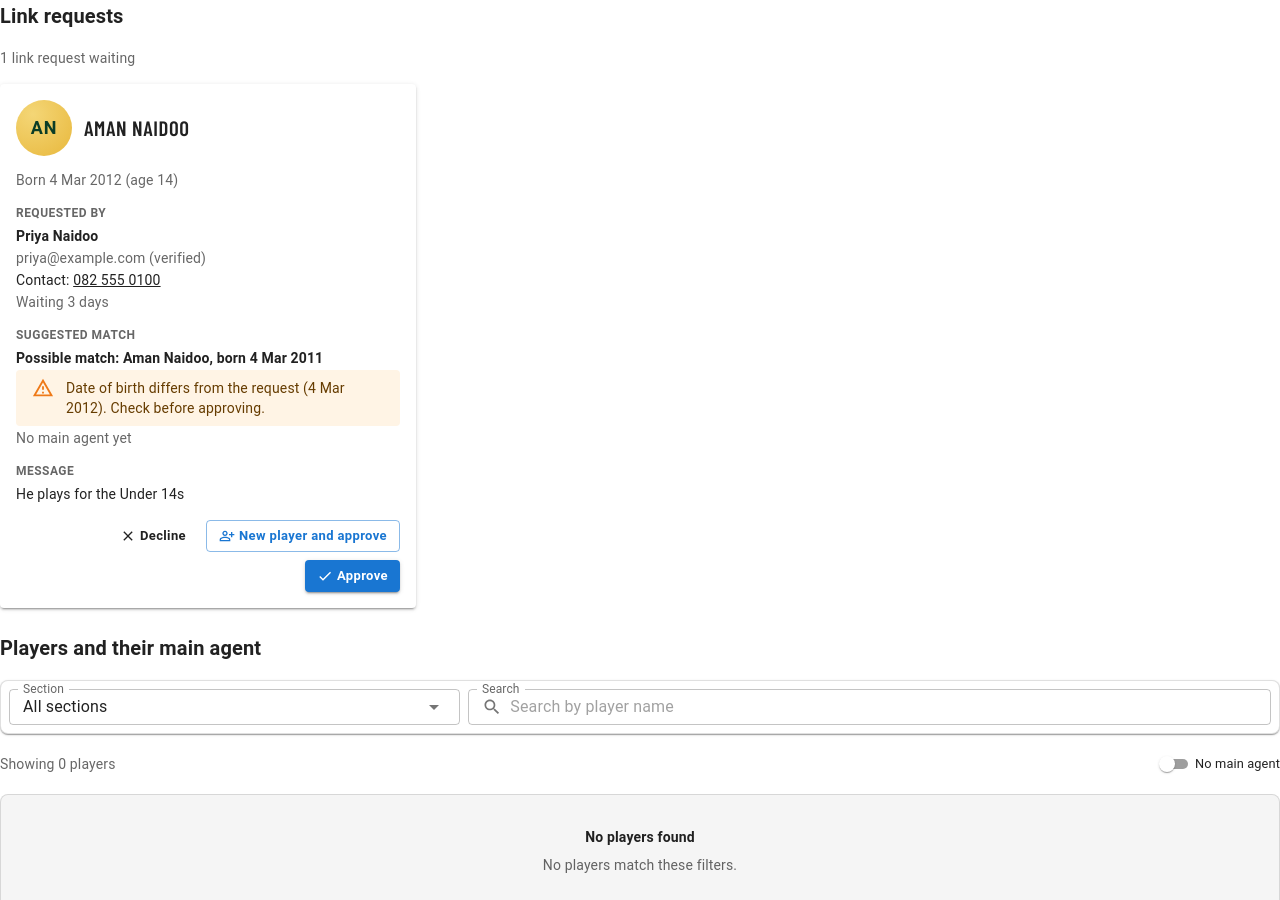
PlayerAccountsTab › approve › repeats the date of birth warning on the confirm step for a name-only match
The image size is (1280, 900).
Click the button "Approve".
click(352, 576)  # box [305,560,400,592]
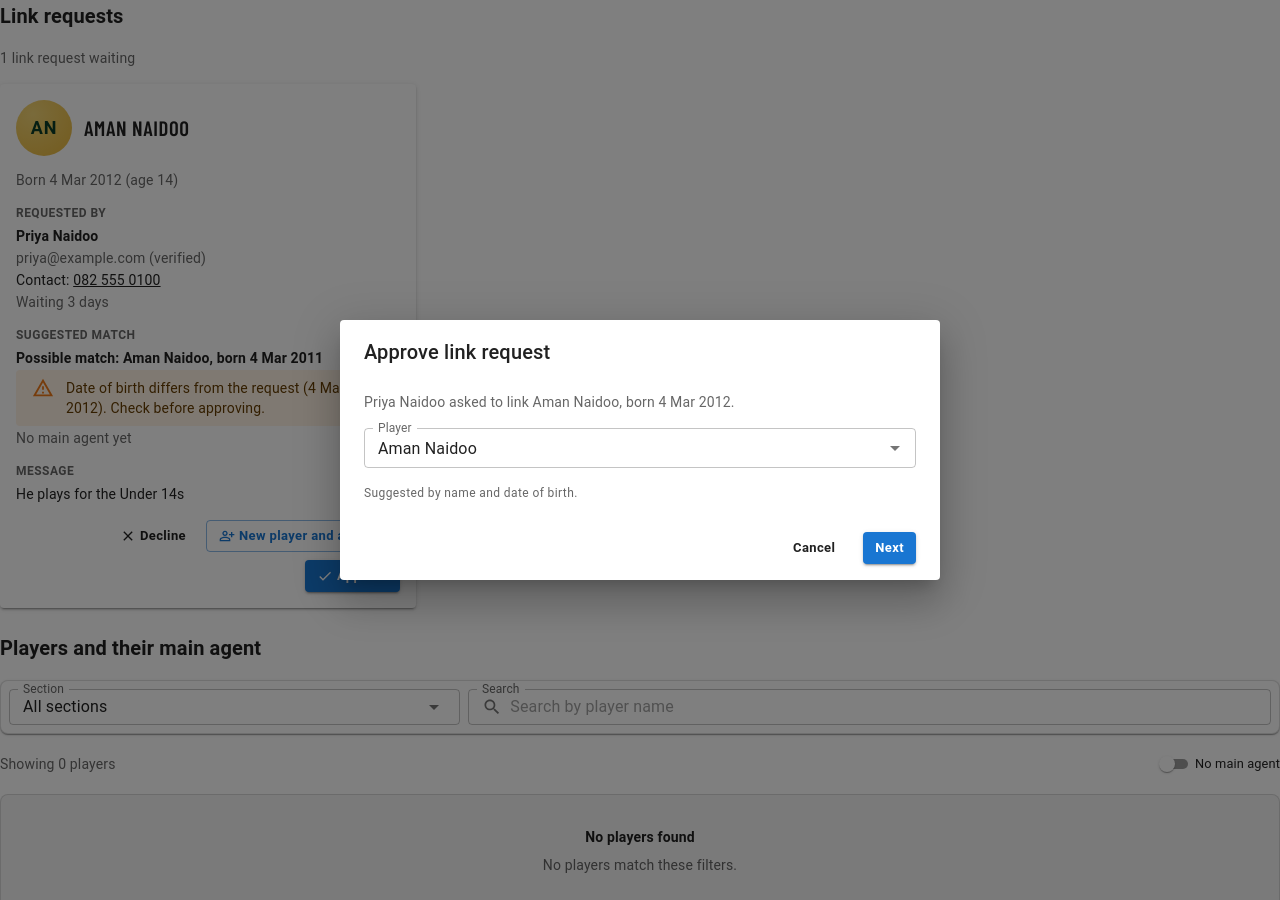
Click the button "Next".
click(890, 548)  # box [863,532,916,564]
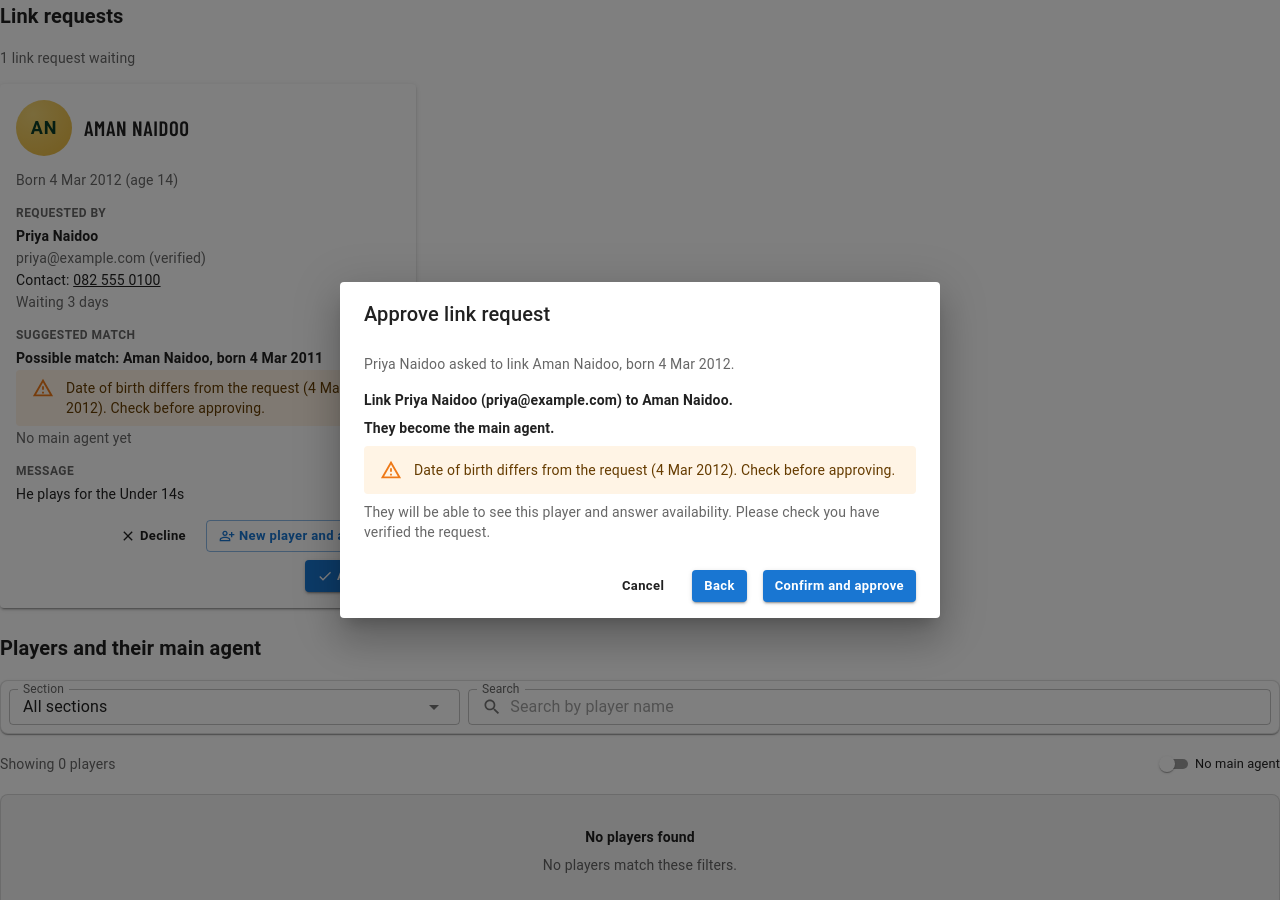
Expected: the message shows "Date of birth differs from the request", [414,462,896,478]
